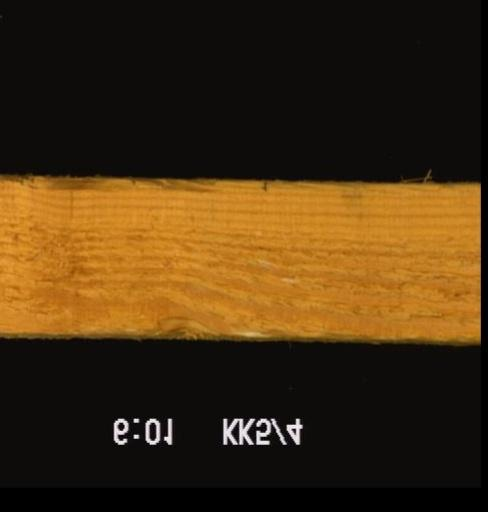edge_knot: (138, 310, 217, 338)
wave: (18, 177, 217, 208), (270, 179, 478, 198)
